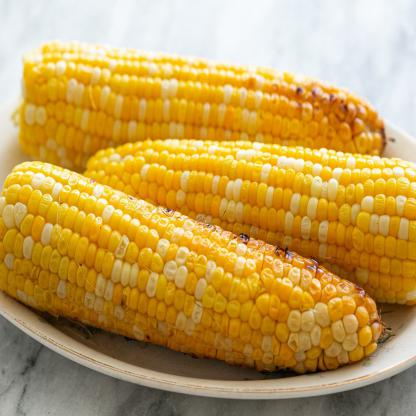corn: (0, 163, 382, 371), (84, 137, 416, 307), (16, 38, 386, 172)
